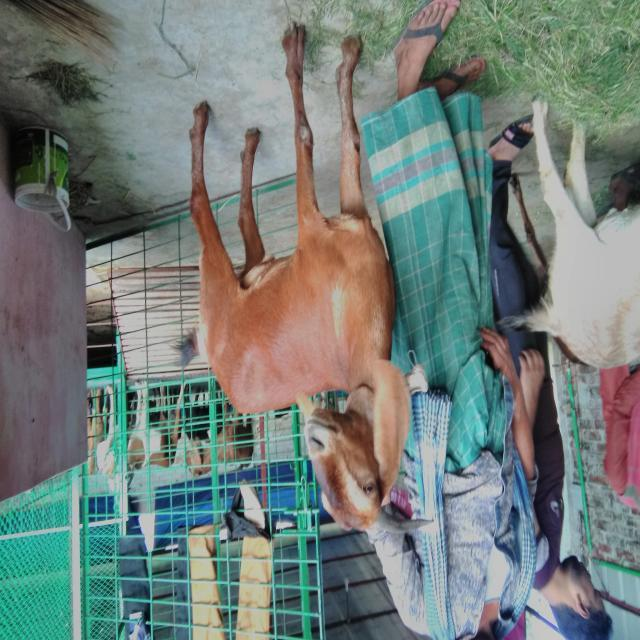Goat: (172, 23, 433, 537), (494, 98, 639, 371)
